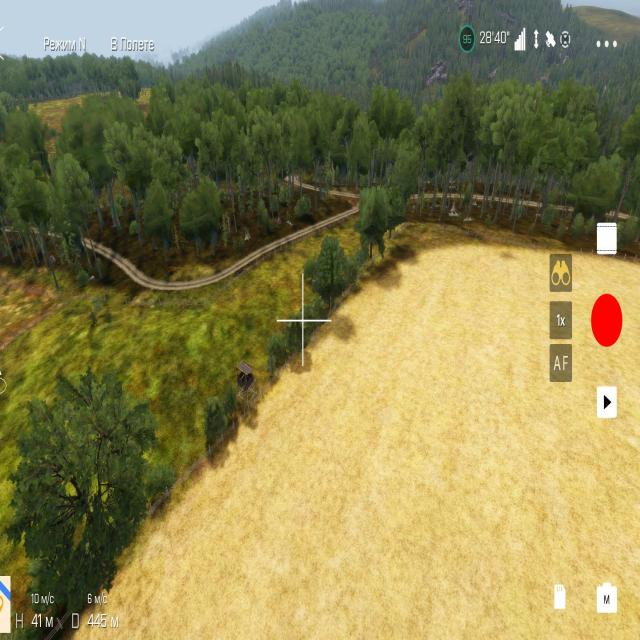fortification: (228, 352, 262, 422)
